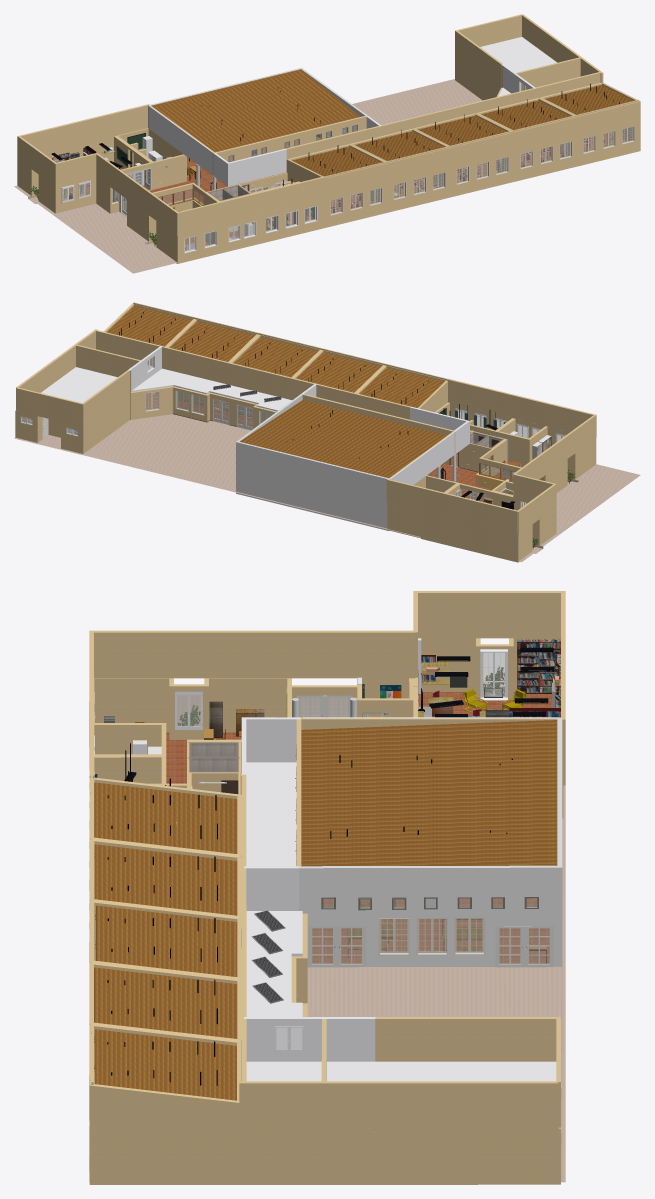
Rendered from escuela.glb.
3 renders of one model, top to bottom at view 1: azimuth 30°, elevation 25°; view 2: azimuth 150°, elevation 25°; view 3: azimuth 270°, elevation 25°, orthographic. The views are drawn at different scales.
Visible parts, largest first — view 1: wall_2_4, bottom_2507, wall_132_797, ground_1, wall_2_2, 10_10_1163, wall_12_64, 1198, room_201_1141; view 2: wall_2_4, bottom_2507, wall_132_797, ground_1, wall_2_2, 10_10_1163, wall_12_64, 1198; view 3: wall_2_4, bottom_2507, wall_132_797, wall_2_2, ground_1, 10_10_1163, room_201_1141, 1198, wall_12_64, bottom_1388, top_1383, wall_26_154 (+1 smaller).
Part boxes in pixels (left/top/right/bottom): wall_2_4: left=17, top=15, right=640, bottom=263; bottom_2507: left=151, top=69, right=633, bottom=205; wall_132_797: left=51, top=37, right=634, bottom=253; ground_1: left=14, top=79, right=497, bottom=273; wall_2_2: left=17, top=14, right=640, bottom=213; 10_10_1163: left=63, top=83, right=632, bottom=250; wall_12_64: left=63, top=132, right=626, bottom=250; 1198: left=83, top=83, right=619, bottom=239; room_201_1141: left=187, top=134, right=319, bottom=192; wall_2_4: left=15, top=303, right=596, bottom=562; bottom_2507: left=107, top=306, right=514, bottom=482; wall_132_797: left=20, top=346, right=565, bottom=530; ground_1: left=14, top=414, right=640, bottom=562; wall_2_2: left=16, top=302, right=596, bottom=511; 10_10_1163: left=22, top=358, right=563, bottom=505; wall_12_64: left=146, top=393, right=543, bottom=501; 1198: left=119, top=312, right=551, bottom=481; wall_2_4: left=89, top=593, right=565, bottom=1184; bottom_2507: left=94, top=720, right=557, bottom=1100; wall_132_797: left=89, top=638, right=562, bottom=1156; wall_2_2: left=89, top=591, right=565, bottom=1128; ground_1: left=89, top=686, right=565, bottom=1182; 10_10_1163: left=177, top=652, right=549, bottom=1048; room_201_1141: left=312, top=898, right=549, bottom=963; 1198: left=107, top=655, right=560, bottom=1085; wall_12_64: left=166, top=692, right=551, bottom=783; bottom_1388: left=517, top=639, right=560, bottom=699; top_1383: left=253, top=710, right=509, bottom=1002; wall_26_154: left=191, top=743, right=236, bottom=771.
Size of the model in its own units: 4958 by 482 by 2015.
Materials: 68 (68 with a texture image).
